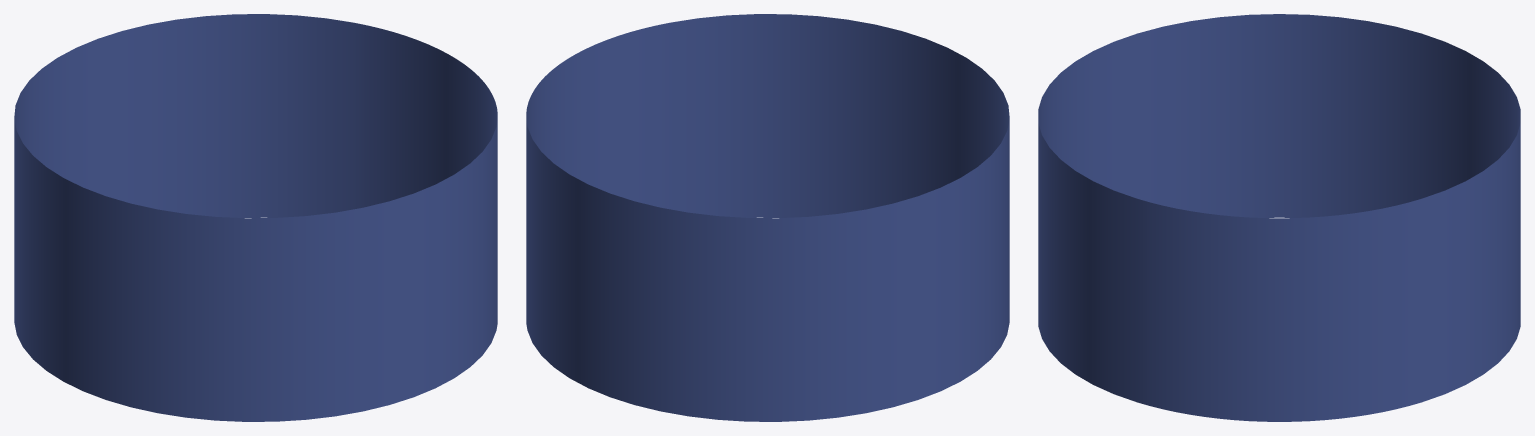
The model's file is ShaftPart.fbx.
3 views of the same model, side by side, from view 1: azimuth 30°, elevation 25°; view 2: azimuth 150°, elevation 25°; view 3: azimuth 270°, elevation 25° (orthographic).
Visible parts, largest first — view 1: ShaftPart; view 2: ShaftPart; view 3: ShaftPart.
Part boxes in pixels (bbox=[...]): ShaftPart: bbox=[14, 14, 497, 421]; ShaftPart: bbox=[526, 14, 1009, 421]; ShaftPart: bbox=[1038, 14, 1520, 421].
Size of the model in its own units: 732 by 340 by 730.
